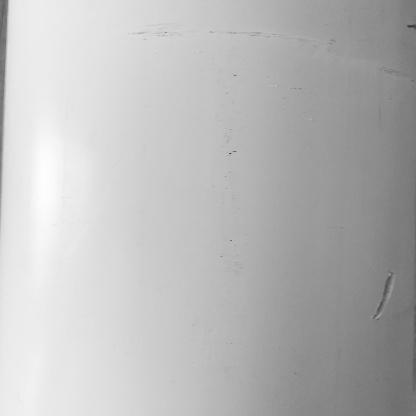sunshang: (367, 269, 400, 323)
